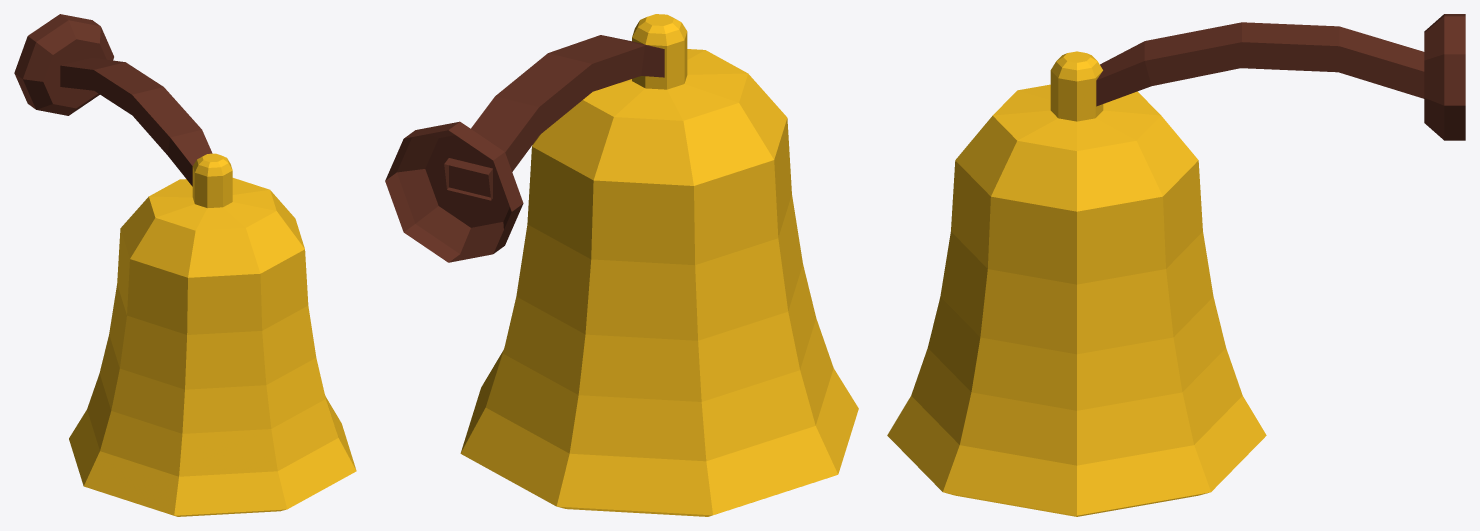
Rendered from DoorBell.fbx.
3 views of the same model, side by side, from view 1: azimuth 30°, elevation 25°; view 2: azimuth 150°, elevation 25°; view 3: azimuth 270°, elevation 25° (orthographic). The views are drawn at different scales.
Visible parts, largest first — view 1: DoorBell; view 2: DoorBell; view 3: DoorBell.
Part boxes in pixels (x1,y1,x2,y2): DoorBell: [14, 14, 356, 516]; DoorBell: [385, 14, 858, 516]; DoorBell: [887, 14, 1465, 516].
Bounding box in the file's own units: 21.24 × 29.97 × 32.38.
